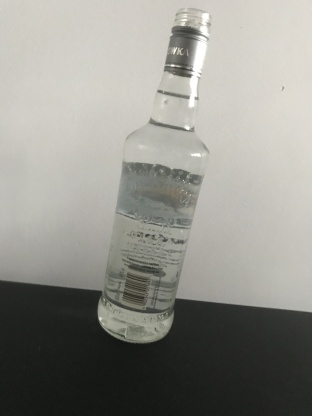nakretka: (162, 5, 212, 81)
